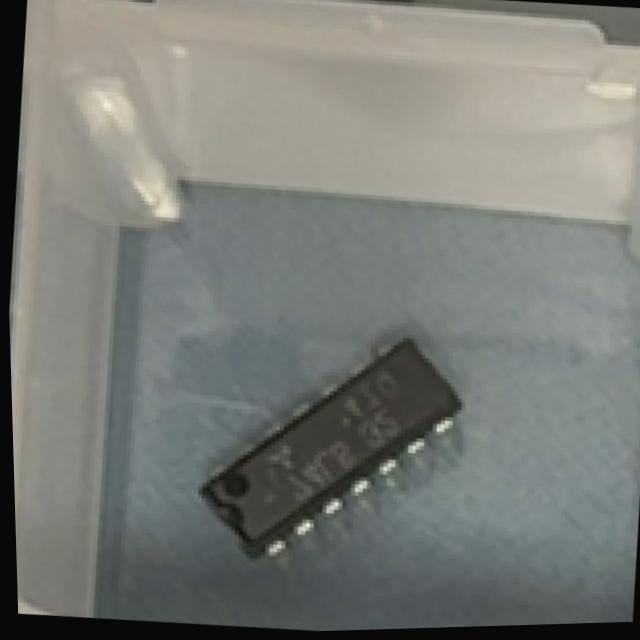IC: (191, 309, 483, 580)
